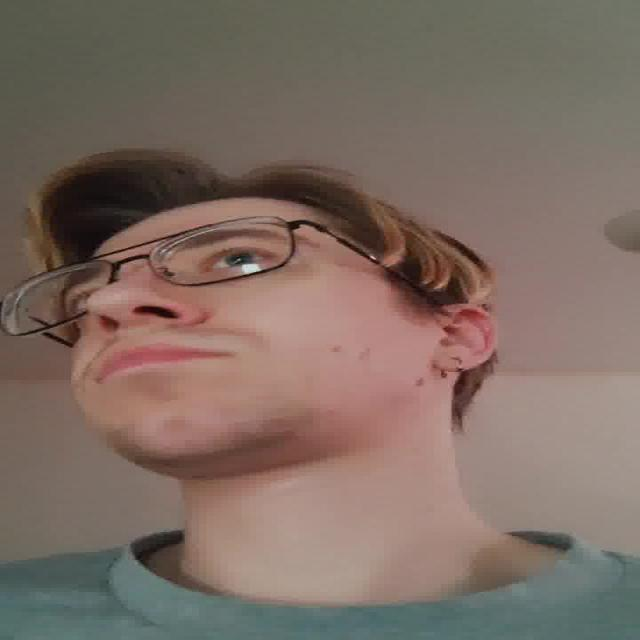earlobe: (430, 300, 500, 372)
